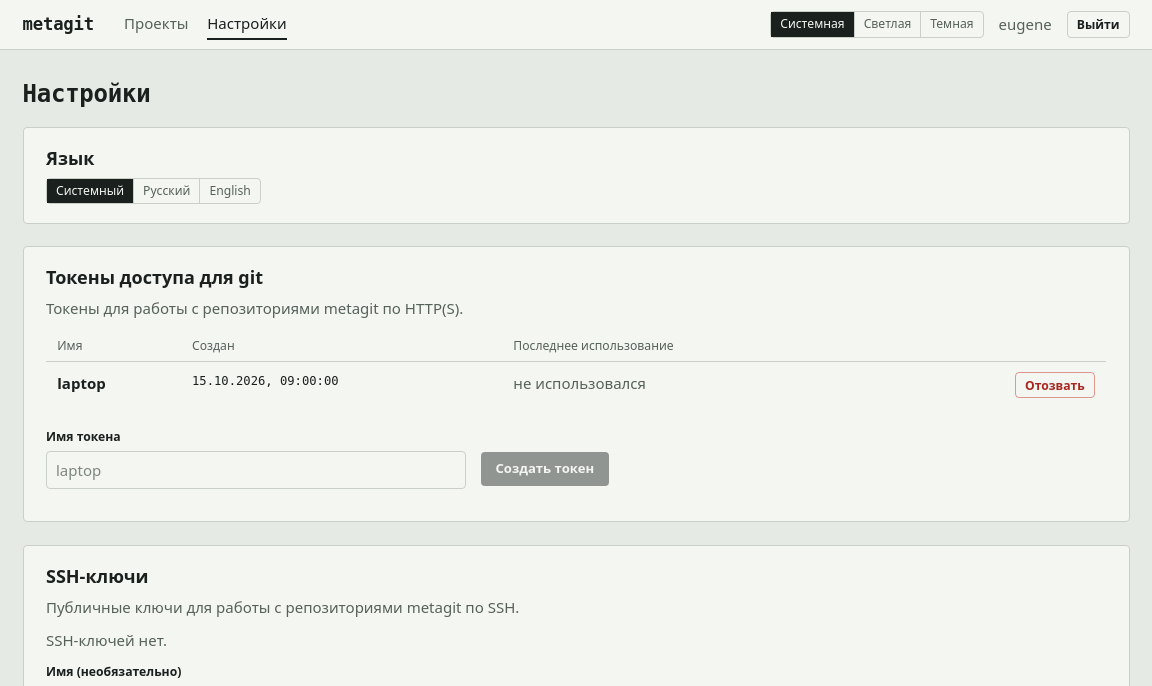
Test case: interface language › choosing English in settings applies at once and is saved, system removes it
The image size is (1152, 686).
Expected: the radio button labelled "Системный" is checked, [47,179,133,203]
Click the radio button labelled "English" at (230, 191), box [199,179,260,203]
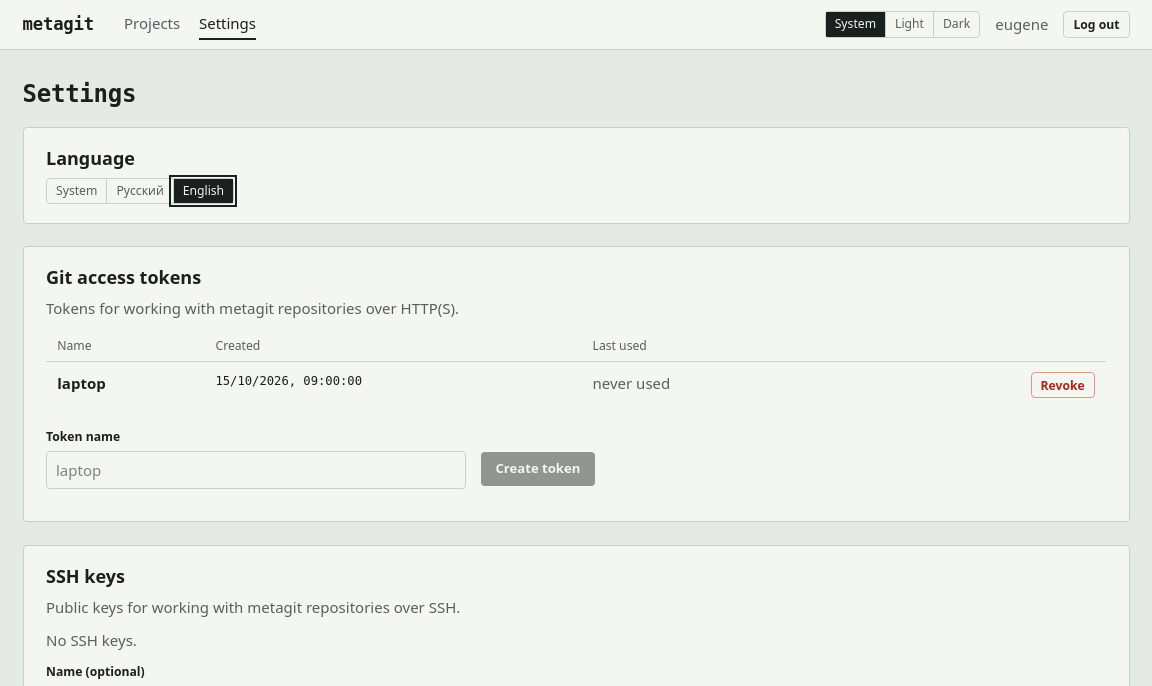
Result: the heading "Settings" is shown at [22,80,136,108]
Result: the link "Projects" is shown at [124,8,180,40]
Result: the button "Log out" is shown at [1063,11,1130,38]
Click the radio button labelled "System" next to "Русский" at (77, 190), box [56,182,97,199]
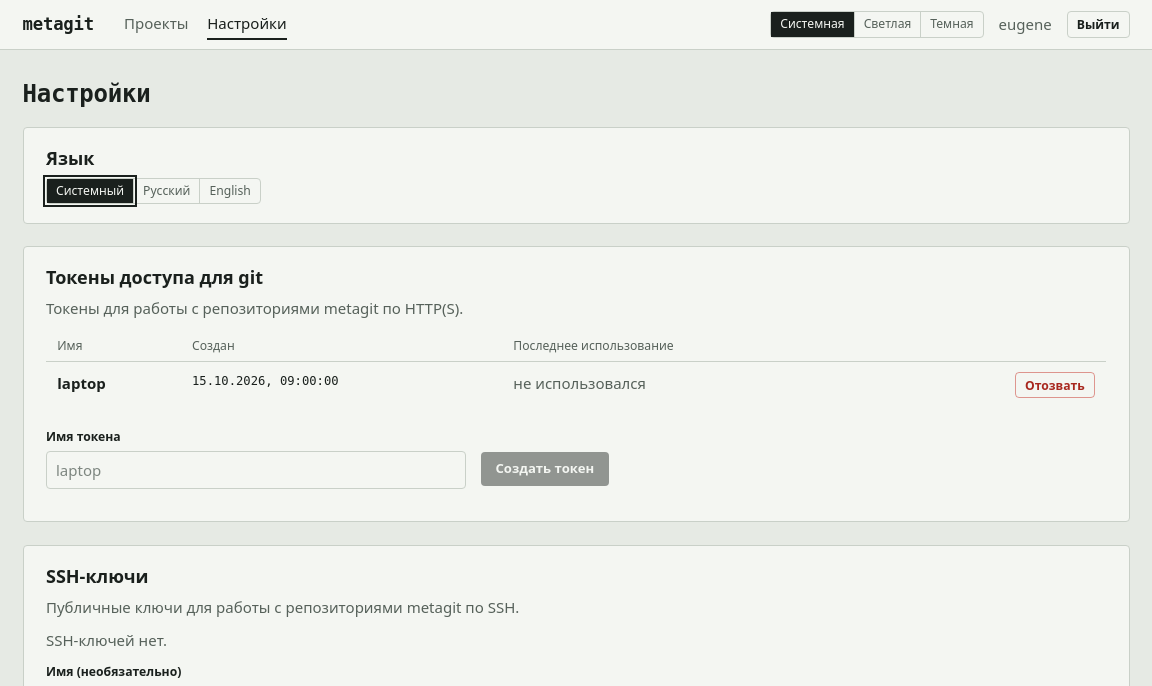
Result: the heading "Настройки" is shown at [22,80,150,108]
